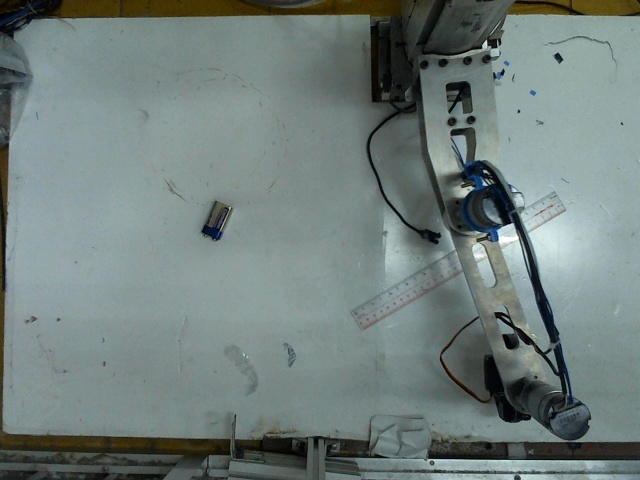battery: (200, 197, 229, 240)
